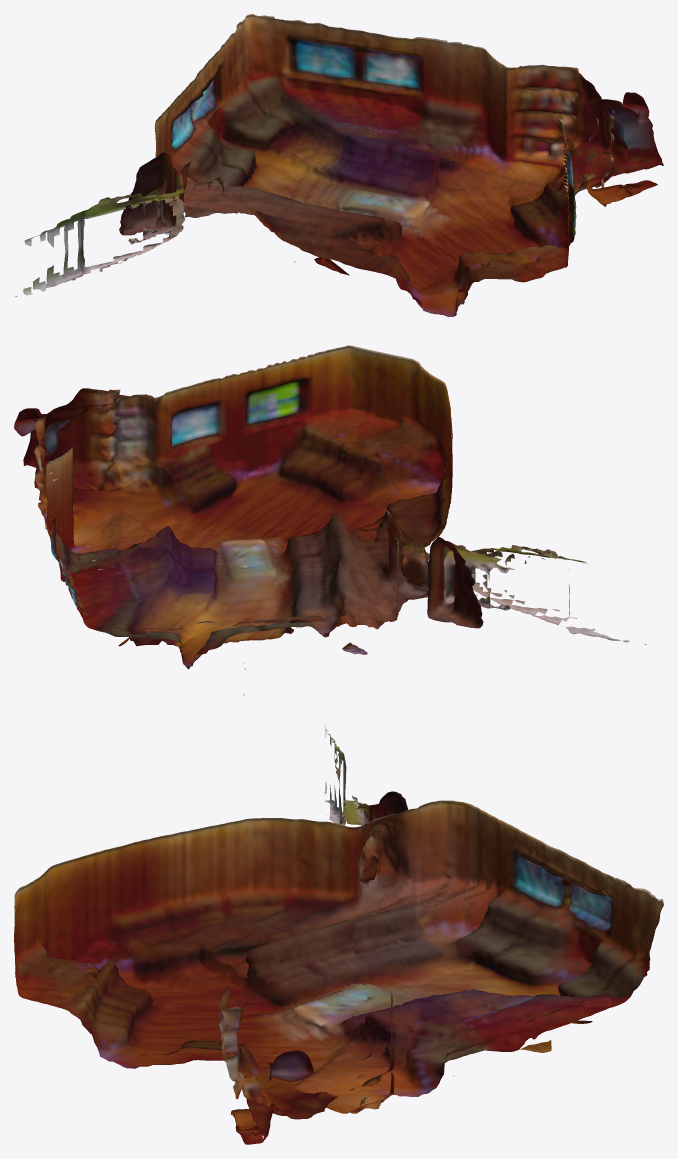
The model's file is CreativeStudio.glb.
The picture shows the model from 3 angles, top to bottom: view 1: azimuth 30°, elevation 25°; view 2: azimuth 150°, elevation 25°; view 3: azimuth 270°, elevation 25°; orthographic projection. The views are drawn at different scales.
Parts seen in each view (by area): view 1: world; view 2: world; view 3: world.
Part boxes in pixels (box(x1,y1,x2,y2)): world: box(15, 14, 663, 316); world: box(14, 345, 646, 695); world: box(14, 725, 663, 1144).
Size of the model in its own units: 9.35 by 2.49 by 7.19.
